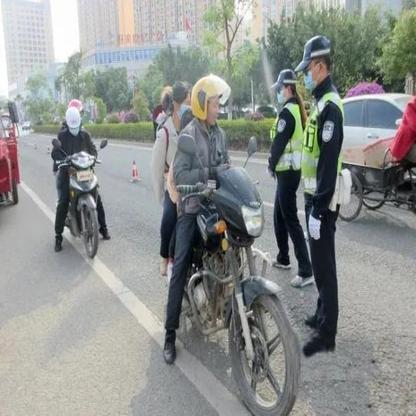target: (161, 72, 301, 413), (48, 95, 121, 264)
